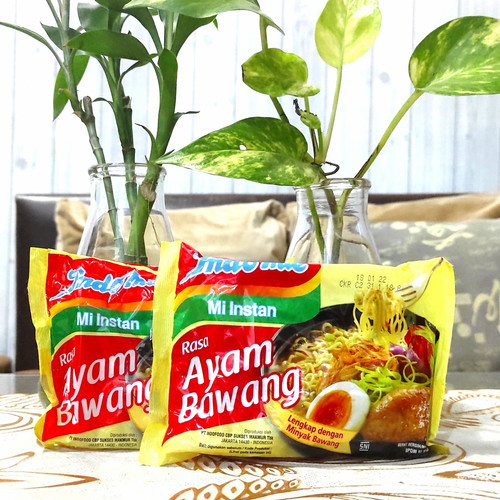Indomie Ayam Bawang (69g): (153, 233, 453, 460), (18, 234, 292, 447)
